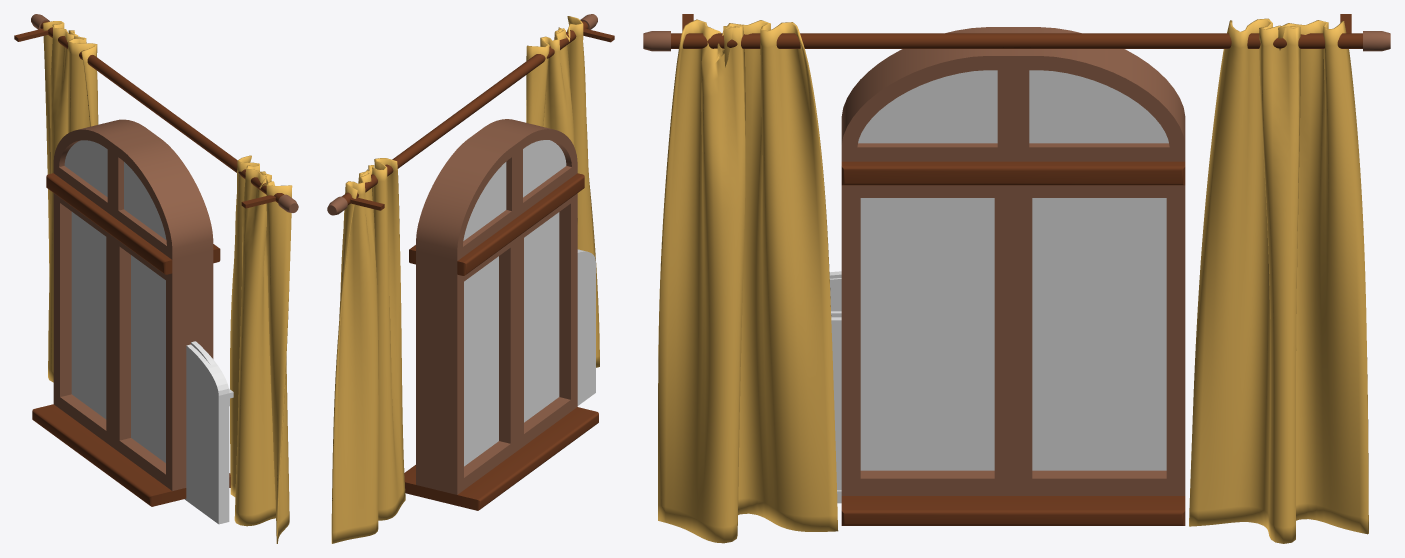
The model's file is window_with_curtains.fbx.
3 views of the same model, side by side, from view 1: azimuth 30°, elevation 25°; view 2: azimuth 150°, elevation 25°; view 3: azimuth 270°, elevation 25° (orthographic). The views are drawn at different scales.
Parts seen in each view (by area): view 1: Window.001, Curtain, Cube, Curtain.001, Hanger; view 2: Window.001, Curtain.001, Curtain, Hanger, Cube; view 3: Window.001, Curtain, Curtain.001, Hanger, Cube.001, Cube.
Part boxes in pixels (box(x1,y1,x2,y2)): Window.001: box(32, 119, 230, 506); Curtain: box(230, 155, 292, 543); Cube: box(184, 344, 233, 524); Curtain.001: box(43, 21, 98, 382); Hanger: box(14, 14, 298, 212); Window.001: box(404, 119, 598, 510); Curtain.001: box(331, 158, 405, 543); Curtain: box(526, 16, 599, 367); Hanger: box(327, 14, 614, 215); Cube: box(577, 249, 595, 405); Window.001: box(841, 27, 1185, 525); Curtain: box(658, 19, 838, 543); Curtain.001: box(1189, 18, 1368, 543); Hanger: box(643, 14, 1390, 51); Cube.001: box(829, 271, 841, 490); Cube: box(830, 278, 841, 503).
Bounding box in the file's own units: 149 × 506 × 680.
